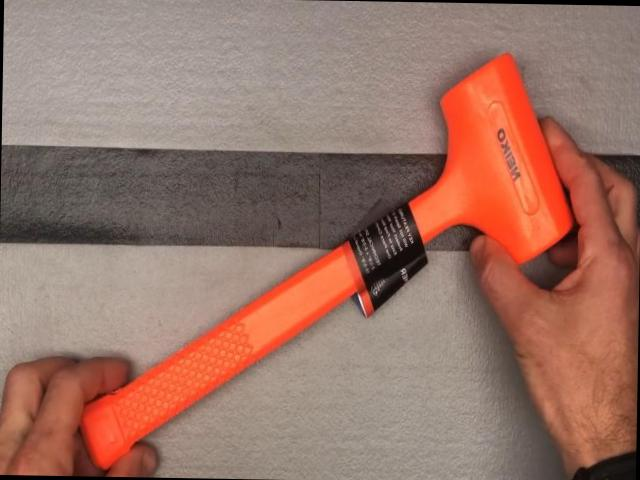hammer: (76, 46, 580, 476)
